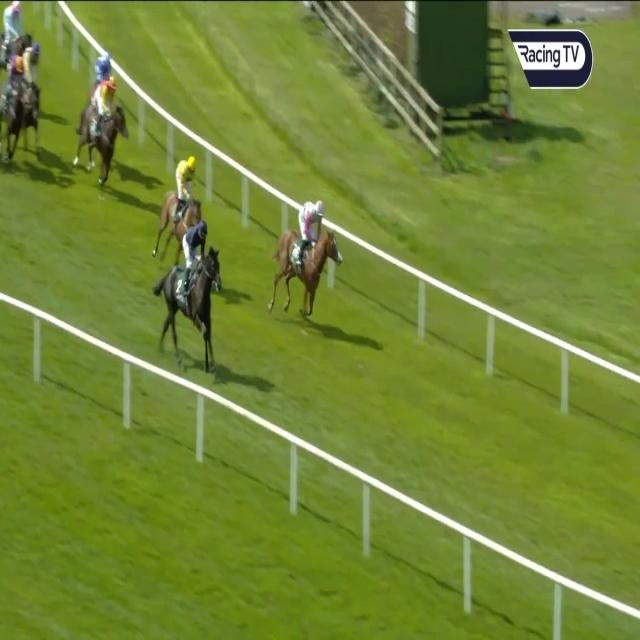horses-racing: (270, 193, 346, 328), (159, 220, 223, 374), (76, 77, 128, 177), (157, 145, 209, 243), (0, 50, 26, 166), (23, 40, 47, 153), (0, 0, 32, 67), (81, 42, 121, 94)
